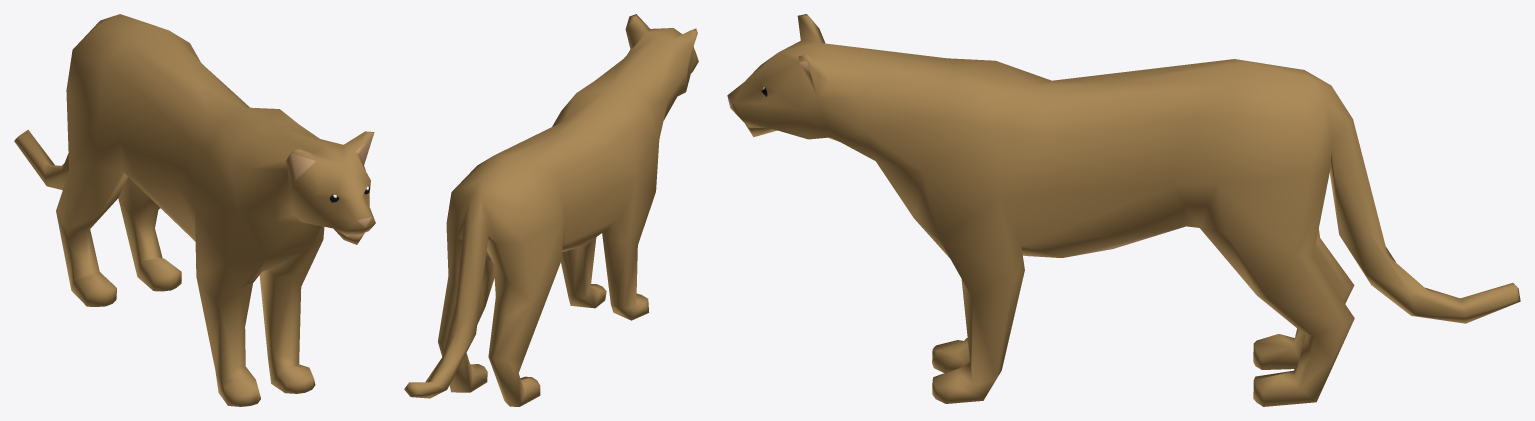
Rendered from e965bcda-6ebc-44fa-b5f7-318335d64c11.glb.
3 views of the same model, side by side, from view 1: azimuth 30°, elevation 25°; view 2: azimuth 150°, elevation 25°; view 3: azimuth 270°, elevation 25° (orthographic). The views are drawn at different scales.
Parts seen in each view (by area): view 1: Cougar01; view 2: Cougar01; view 3: Cougar01.
Boxes of the visible parts, bbox=[...] form: Cougar01: bbox=[14, 14, 375, 406]; Cougar01: bbox=[404, 14, 698, 406]; Cougar01: bbox=[727, 14, 1520, 406].
Size of what is drawn, in the model's own units: 0.4712 by 1.19 by 2.48.
Materials: 1 (1 with a texture image).
